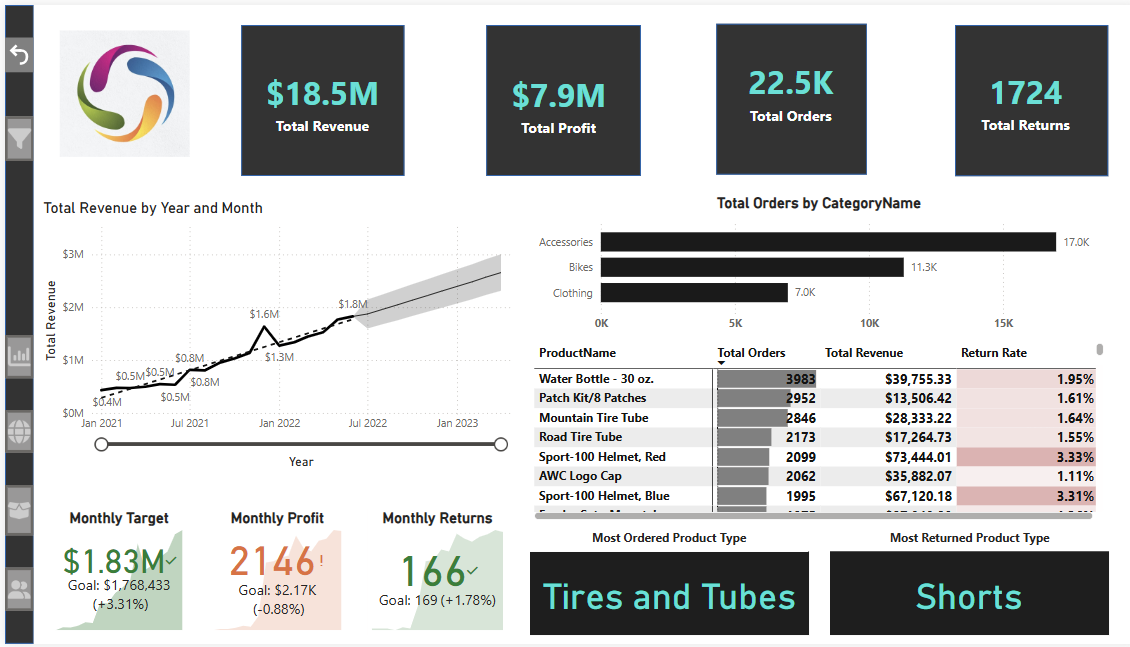

Layout of this report page (visuals, bound fields, positions):
{"tool":"powerbi","page":{"name":"Executive dashboard","canvas":[1280,720],"ordinal":0},"visuals":[{"type":"shape","box":[801.5,20.3,169.8,170],"z":0,"group":"g8"},{"type":"shape","box":[266.4,21.9,183.8,170],"z":0,"group":"g1"},{"type":"shape","box":[542.9,21.9,174.2,170],"z":0,"group":"g2"},{"type":"shape","box":[1070,21.9,172.7,170.4],"z":0,"group":"g4"},{"type":"image","box":[38.8,22.4,145.9,152.9],"z":0},{"type":"actionButton","box":[0,540.8,32,57],"z":0,"group":"g7"},{"type":"card","fields":{"Values":["Min(Product Subcategories Lookup.SubcategoryName)"]},"box":[591.7,615.2,314,94],"z":0,"group":"g5"},{"type":"card","fields":{"Values":["Min(Product Subcategories Lookup.SubcategoryName)"]},"box":[929.7,615.2,314,94],"z":0,"group":"g6"},{"type":"shape","box":[0,0,32.4,719.7],"z":1000},{"type":"card","fields":{"Values":["Measure Table.Total Orders"]},"box":[805.2,19.1,159.8,156.1],"z":1000,"group":"g8"},{"type":"card","fields":{"Values":["Measure Table.Total Returns"]},"box":[1057.8,28.8,185,157.5],"z":1000,"group":"g4"},{"type":"card","fields":{"Values":["Measure Table.Total profit"]},"box":[531.2,36.2,185.9,150],"z":1000,"group":"g2"},{"type":"card","fields":{"Values":["Measure Table.Total Revenue"]},"box":[248.3,47.8,220,123],"z":1000,"group":"g1"},{"type":"actionButton","box":[0,371.8,32,49],"z":1000,"group":"g7"},{"type":"textbox","box":[591,585.9,313.3,30],"z":1000,"group":"g5"},{"type":"textbox","box":[929.7,585.9,314.4,28.9],"z":1000,"group":"g6"},{"type":"group","id":"g1","title":"Group 1","box":[248.3,21.9,220.3,170.3],"z":2000},{"type":"actionButton","box":[0,633.8,32,49],"z":2000,"group":"g7"},{"type":"group","id":"g2","title":"Group 2","box":[531.2,21.9,185.9,170.3],"z":3000},{"type":"actionButton","box":[0,456.8,32,48],"z":3000,"group":"g7"},{"type":"group","id":"g3","title":"Group 3","box":[801.5,19.1,169.5,170.7],"z":4000},{"type":"group","id":"g4","title":"Group 4","box":[1057.8,21.9,185.9,170.3],"z":5000},{"type":"lineChart","fields":{"Y":["Measure Table.Total Revenue"],"Category":["Calendar Lookup.Date.Variation.Date Hierarchy.Year","Calendar Lookup.Date.Variation.Date Hierarchy.Month"]},"box":[37.8,218.3,550,308.5],"z":6000},{"type":"kpi","title":"Monthly Target","fields":{"Indicator":["Measure Table.Total Revenue"],"Goal":["Measure Table.Prev month revenue"],"TrendLine":["Calendar Lookup.Start of Month"]},"box":[51.6,567.2,153.1,142.2],"z":7000},{"type":"kpi","title":"Monthly Returns","fields":{"Indicator":["Measure Table.Total Returns"],"TrendLine":["Calendar Lookup.Start of Month"],"Goal":["Measure Table.Previous month returns"]},"box":[408.6,567.2,157.8,142.2],"z":8000},{"type":"kpi","title":"Monthly Profit","fields":{"Indicator":["Measure Table.Total Orders"],"Goal":["Measure Table.Previous month orders"],"TrendLine":["Calendar Lookup.Start of Month"]},"box":[229.3,567.2,154.7,142.2],"z":9000},{"type":"barChart","fields":{"Category":["Product Categories Lookup.CategoryName"],"Y":["Measure Table.Total Orders"]},"box":[592.2,212.5,651.6,164.1],"z":10000},{"type":"pivotTable","fields":{"Rows":["Product Lookup.ProductName"],"Values":["Measure Table.Orders","Measure Table.Revenue","Measure Table.Return Rate"]},"box":[592.2,376.6,651.6,209.4],"z":11000},{"type":"group","id":"g5","title":"Group 5","box":[591,585.9,314.1,123.4],"z":12000},{"type":"group","id":"g6","title":"Group 6","box":[929.7,585.9,314.1,123.4],"z":13000},{"type":"actionButton","box":[0,125.4,32.4,50.7],"z":14000},{"type":"actionButton","box":[0,37,32,39],"z":15000},{"type":"group","id":"g7","title":"Group 7","box":[0,371.8,32.4,309.9],"z":16000},{"type":"group","id":"g8","title":"Group 8","box":[801.5,19.1,169.5,170.7],"z":18002,"group":"g3"}]}

Visuals, with their boxes on the page's 1280x720 design canvas (x1, y1, x2, y2). These are canvas units, not pixel positions in the 1130x647 screenshot, which may show the page scaled, cropped or inside an application window:
shape: <bbox>802, 20, 971, 190</bbox>
shape: <bbox>266, 22, 450, 192</bbox>
shape: <bbox>543, 22, 717, 192</bbox>
shape: <bbox>1070, 22, 1243, 192</bbox>
image: <bbox>39, 22, 185, 175</bbox>
actionButton: <bbox>0, 541, 32, 598</bbox>
card - Min(Product Subcategories Lookup.SubcategoryName): <bbox>592, 615, 906, 709</bbox>
card - Min(Product Subcategories Lookup.SubcategoryName): <bbox>930, 615, 1244, 709</bbox>
shape: <bbox>0, 0, 32, 720</bbox>
card - Measure Table.Total Orders: <bbox>805, 19, 965, 175</bbox>
card - Measure Table.Total Returns: <bbox>1058, 29, 1243, 186</bbox>
card - Measure Table.Total profit: <bbox>531, 36, 717, 186</bbox>
card - Measure Table.Total Revenue: <bbox>248, 48, 468, 171</bbox>
actionButton: <bbox>0, 372, 32, 421</bbox>
textbox: <bbox>591, 586, 904, 616</bbox>
textbox: <bbox>930, 586, 1244, 615</bbox>
"Group 1" group: <bbox>248, 22, 469, 192</bbox>
actionButton: <bbox>0, 634, 32, 683</bbox>
"Group 2" group: <bbox>531, 22, 717, 192</bbox>
actionButton: <bbox>0, 457, 32, 505</bbox>
"Group 3" group: <bbox>802, 19, 971, 190</bbox>
"Group 4" group: <bbox>1058, 22, 1244, 192</bbox>
lineChart - Measure Table.Total Revenue x Calendar Lookup.Date.Variation.Date Hierarchy.Year: <bbox>38, 218, 588, 527</bbox>
"Monthly Target" kpi: <bbox>52, 567, 205, 709</bbox>
"Monthly Returns" kpi: <bbox>409, 567, 566, 709</bbox>
"Monthly Profit" kpi: <bbox>229, 567, 384, 709</bbox>
barChart - Product Categories Lookup.CategoryName x Measure Table.Total Orders: <bbox>592, 212, 1244, 377</bbox>
pivotTable - Product Lookup.ProductName x Measure Table.Orders: <bbox>592, 377, 1244, 586</bbox>
"Group 5" group: <bbox>591, 586, 905, 709</bbox>
"Group 6" group: <bbox>930, 586, 1244, 709</bbox>
actionButton: <bbox>0, 125, 32, 176</bbox>
actionButton: <bbox>0, 37, 32, 76</bbox>
"Group 7" group: <bbox>0, 372, 32, 682</bbox>
"Group 8" group: <bbox>802, 19, 971, 190</bbox>
